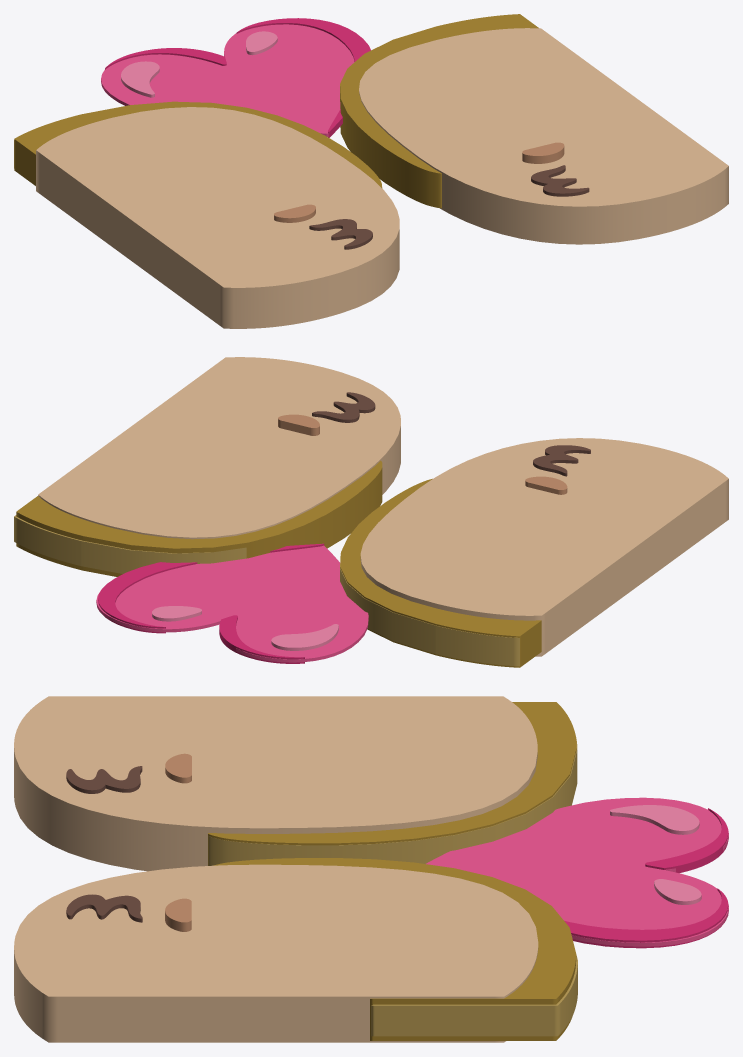
Rendered from emoji_u1f468_1f3fc_200d_2764_200d_1f48b_200d_1f468_1f3fc.glb.
3 views of the same model, one above another, from view 1: azimuth 30°, elevation 25°; view 2: azimuth 150°, elevation 25°; view 3: azimuth 270°, elevation 25° (orthographic). The views are drawn at different scales.
Parts seen in each view (by area): view 1: emoji_u1f468_1f3fc_200d_2764_200d_1f48b_200d_1f468_1f3fc; view 2: emoji_u1f468_1f3fc_200d_2764_200d_1f48b_200d_1f468_1f3fc; view 3: emoji_u1f468_1f3fc_200d_2764_200d_1f48b_200d_1f468_1f3fc.
Part boxes in pixels (x1=…): emoji_u1f468_1f3fc_200d_2764_200d_1f48b_200d_1f468_1f3fc: x1=14, y1=14, x2=728, y2=328; emoji_u1f468_1f3fc_200d_2764_200d_1f48b_200d_1f468_1f3fc: x1=14, y1=357, x2=728, y2=667; emoji_u1f468_1f3fc_200d_2764_200d_1f48b_200d_1f468_1f3fc: x1=14, y1=696, x2=728, y2=1042.
Size of the model in its own units: 0.0336 by 0.0034 by 0.0339.
